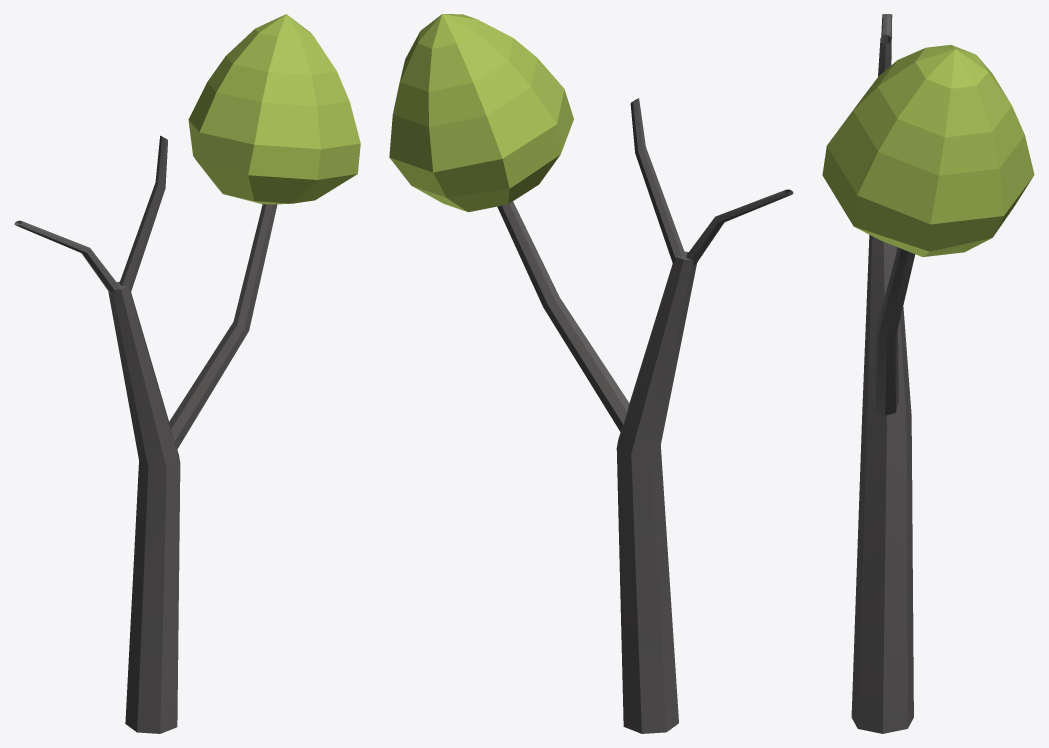
Rendered from massstree1.fbx.
3 renders of one model, left to right at view 1: azimuth 30°, elevation 25°; view 2: azimuth 150°, elevation 25°; view 3: azimuth 270°, elevation 25°, orthographic. The views are drawn at different scales.
Parts seen in each view (by area): view 1: polySurface15; view 2: polySurface15; view 3: polySurface15.
Part boxes in pixels (x1,y1,x2,y2): polySurface15: (14,14,360,733); polySurface15: (389,14,793,733); polySurface15: (822,14,1034,733).
Size of the model in its own units: 6.44 by 11.27 by 2.82.
